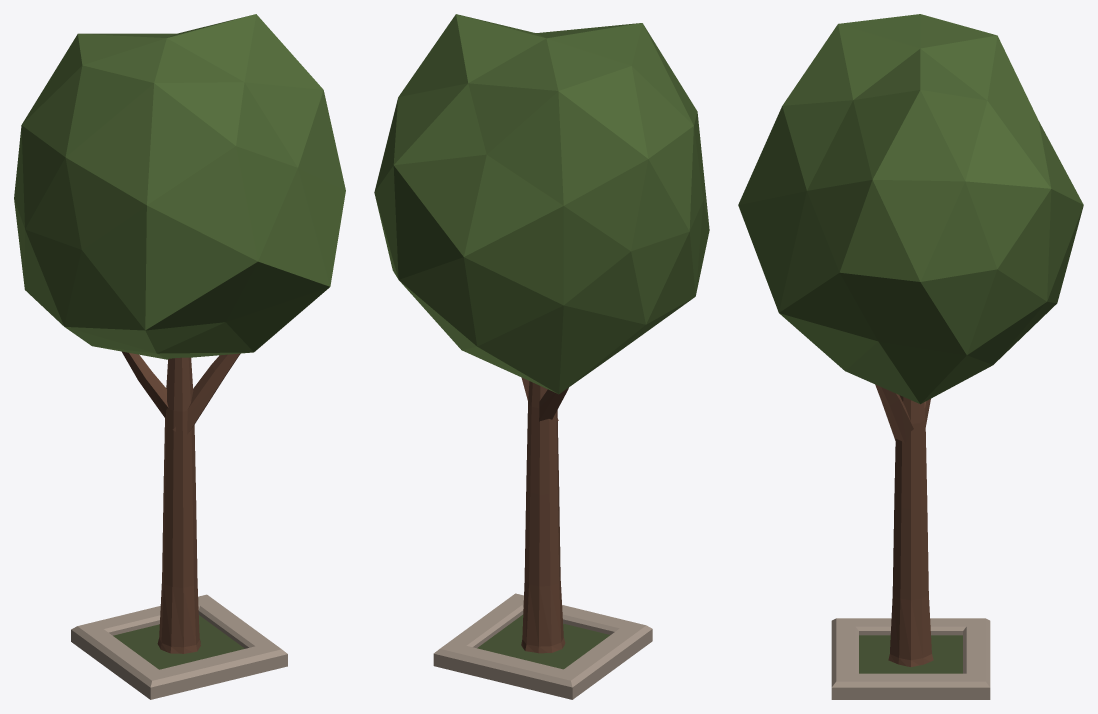
The model's file is street-tree-0d33f3.glb.
3 renders of one model, left to right at view 1: azimuth 30°, elevation 25°; view 2: azimuth 150°, elevation 25°; view 3: azimuth 270°, elevation 25°, orthographic.
Parts seen in each view (by area): view 1: street-tree-mesh; view 2: street-tree-mesh; view 3: street-tree-mesh.
Boxes of the visible parts, box(x1,y1,x2,y2) form: street-tree-mesh: box(14, 14, 345, 699); street-tree-mesh: box(374, 14, 709, 699); street-tree-mesh: box(738, 14, 1083, 699).
Bounding box in the file's own units: 3.05 × 6 × 3.05.
